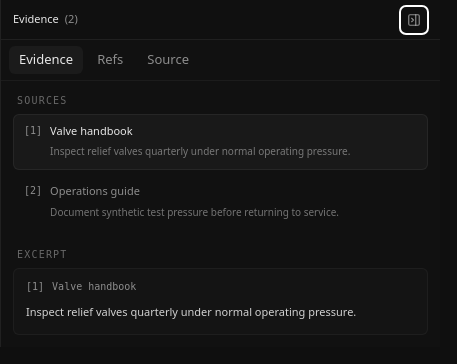
EvidenceInspector parity (R10) › renders Evidence | Refs | Source tabs with synthetic cards
Expected: the text "(2)" is shown, [65,11,78,26]
Expected: the text "Valve handbook" below "Sources" is shown, [50,122,133,138]
What coordinates should you click on to do the following:
click the tab with test id "inspector-tab-refs"
I would click on:
 (110, 60)
Its box is [87,46,133,74].
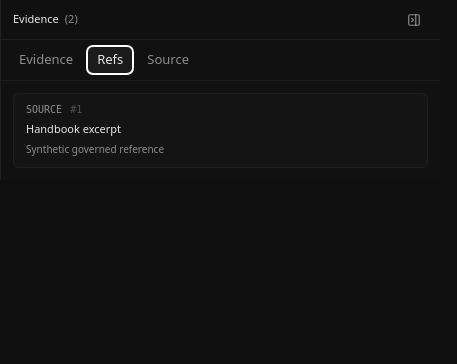
Result: the text "Handbook excerpt" is shown at [26,120,121,136]
What coordinates should you click on to do the following:
click the tab with test id "inspector-tab-source"
I would click on:
 (168, 60)
Its box is [137,46,199,74].
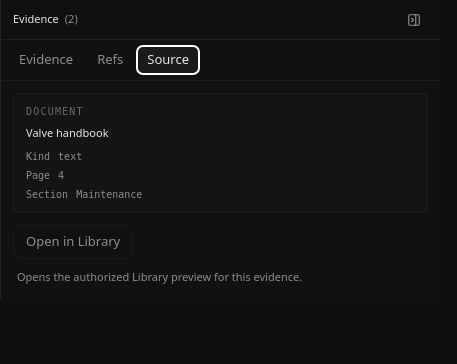
Result: the button with test id "open-in-library" is enabled at [13,225,133,258]
